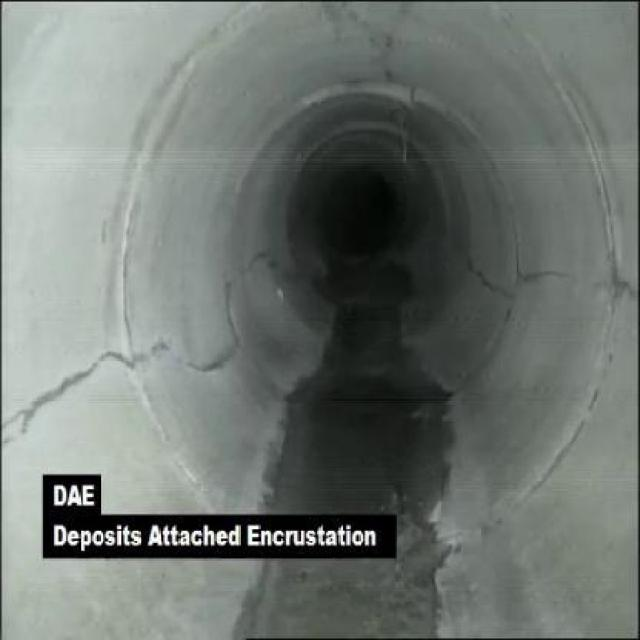Buckling: (386, 77, 423, 125)
Crack: (6, 344, 126, 438), (144, 335, 230, 377), (522, 265, 600, 289), (218, 271, 238, 331)
Joint offset: (271, 75, 375, 111)
